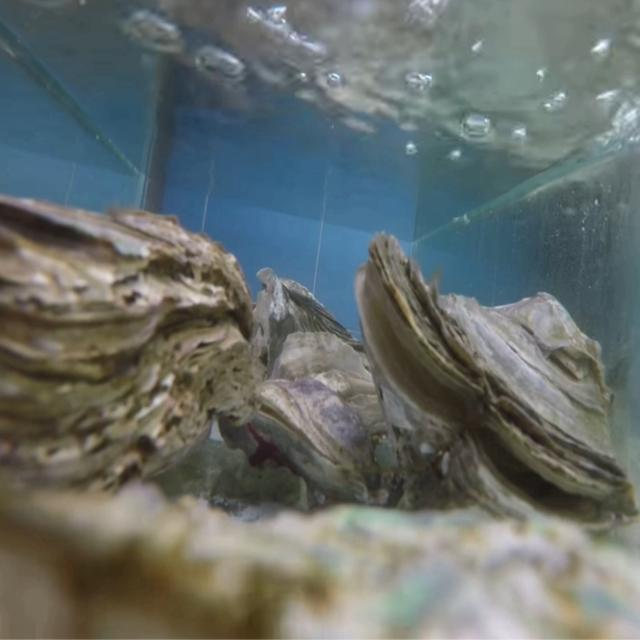Oyster-Closed: (0, 195, 252, 523), (249, 334, 409, 508)
Oyster-Indeterminate: (0, 483, 640, 640), (254, 266, 370, 383)
Oyster-Open: (355, 232, 640, 542)
